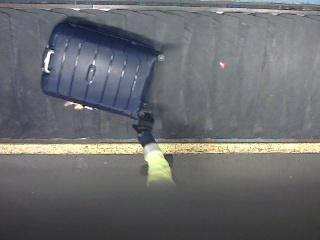Suitcase: (42, 16, 165, 120)
